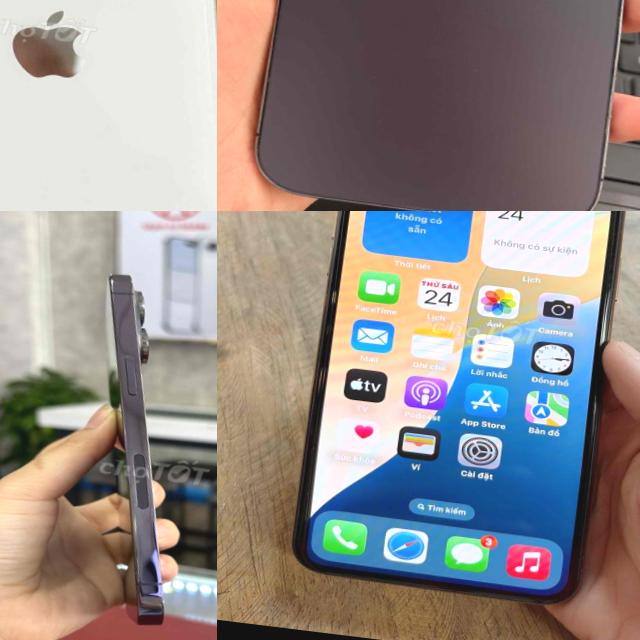gen_14: (246, 0, 640, 211), (59, 253, 217, 639)
gen_7_8: (0, 0, 217, 211)
gen_x_xs: (285, 211, 638, 614)
